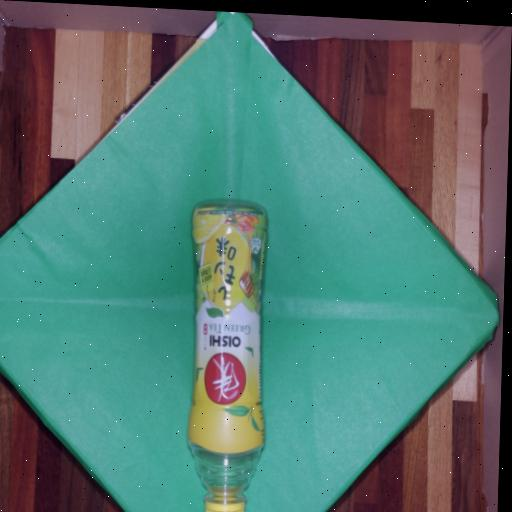bottle: (184, 203, 274, 512)
